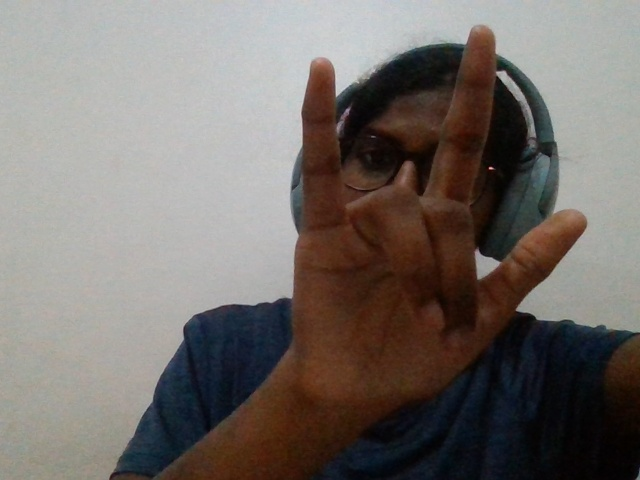I Love You: (249, 15, 605, 460)
